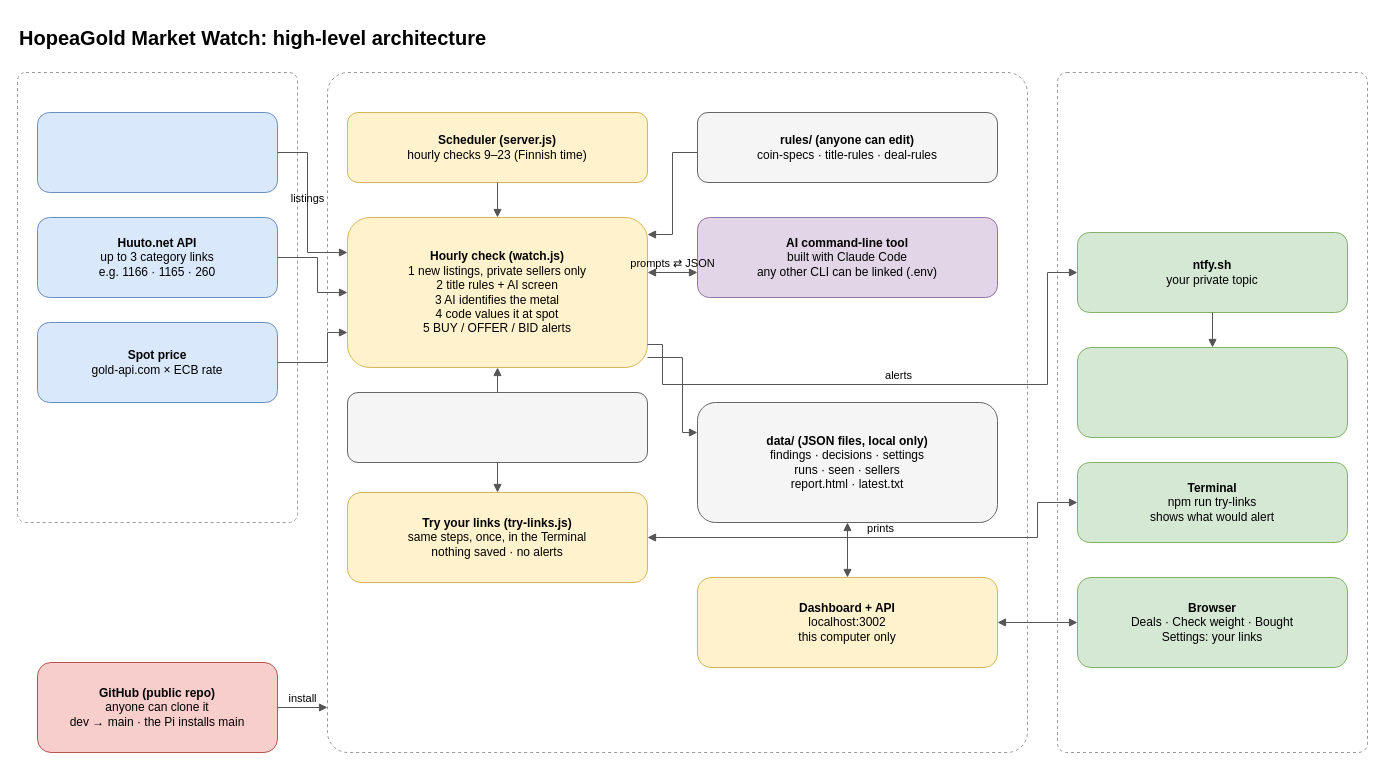
The diagram is 1385 pixels wide and 770 high, and some of its shapes have lost their labels. The box of each missing label's shape, as (x1, y1, x2, y2) in pixels:
Market Watch service: Mac (launchd) or Raspberry Pi (systemd): (326, 72, 1028, 752)
my-links.js (anyone can edit) your Tori + Huuto links: (346, 392, 648, 462)
Owner: (1056, 72, 1368, 752)
Phone 🟢 BUY · 💬 OFFER · ⏰ BID ☀️ morning summary: (1076, 346, 1348, 438)
Sources (internet, Finland): (16, 72, 298, 522)
Tori.fi your search link (secondary market): (36, 112, 278, 192)
